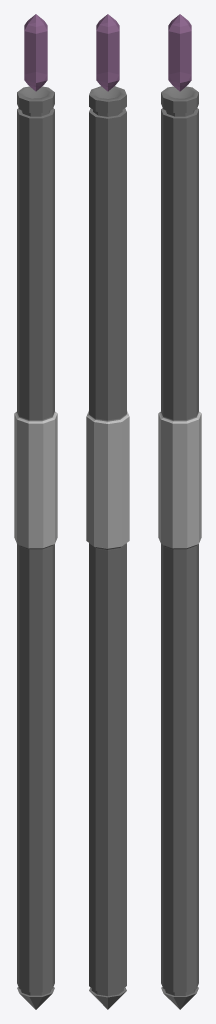
Rendered from med staff.fbx.
3 views of the same model, side by side, from view 1: azimuth 90°, elevation 25°; view 2: azimuth 150°, elevation 25°; view 3: azimuth 330°, elevation 25° (orthographic).
Parts seen in each view (by area): view 1: polySurface1; view 2: polySurface1; view 3: polySurface1.
Part boxes in pixels (x1,y1,x2,y2): polySurface1: (14, 14, 57, 1009); polySurface1: (86, 14, 129, 1009); polySurface1: (158, 14, 201, 1009).
Size of the model in its own units: 14.94 by 387 by 15.17.
